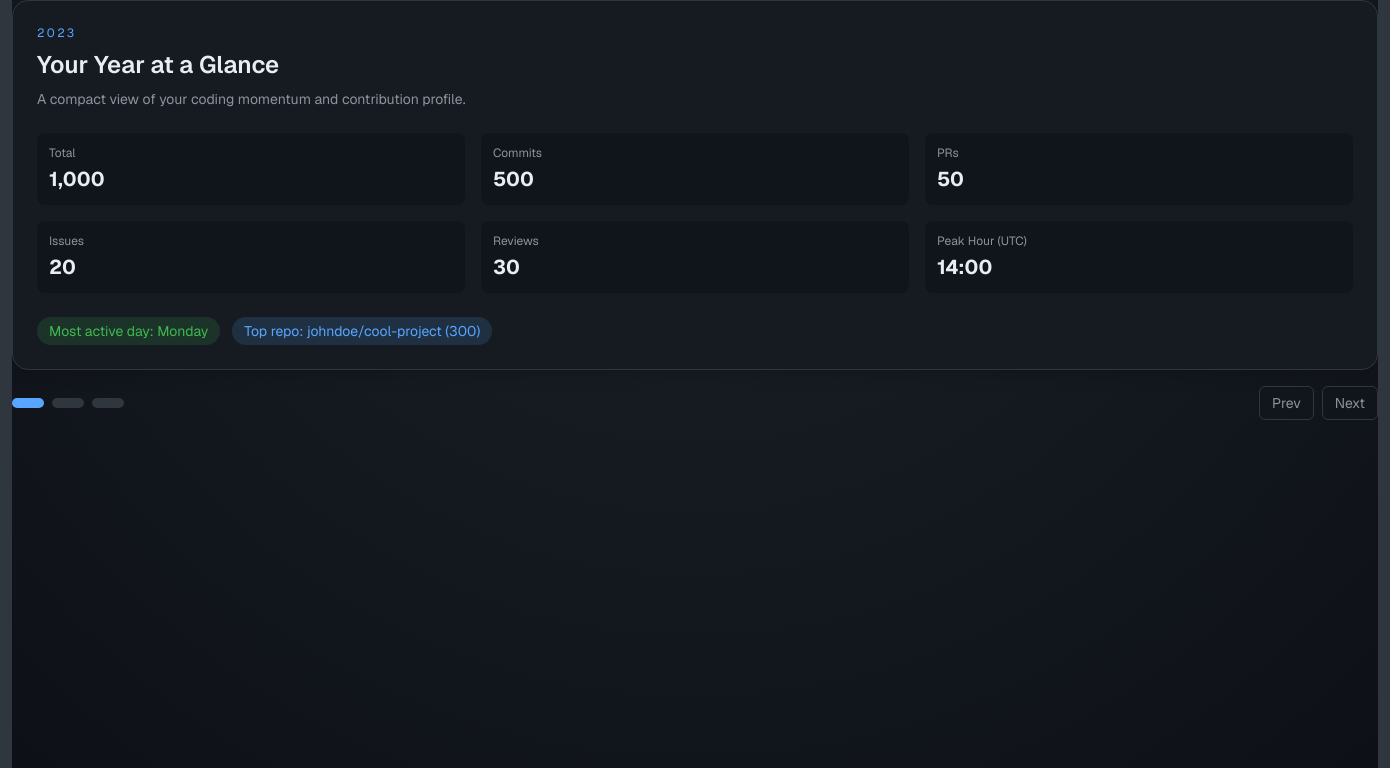
Test: YearInReviewCarousel › navigates to a specific slide when dot indicators are clicked
Click the button named "Go to slide 2".
click(68, 403)  # box [52,398,84,408]
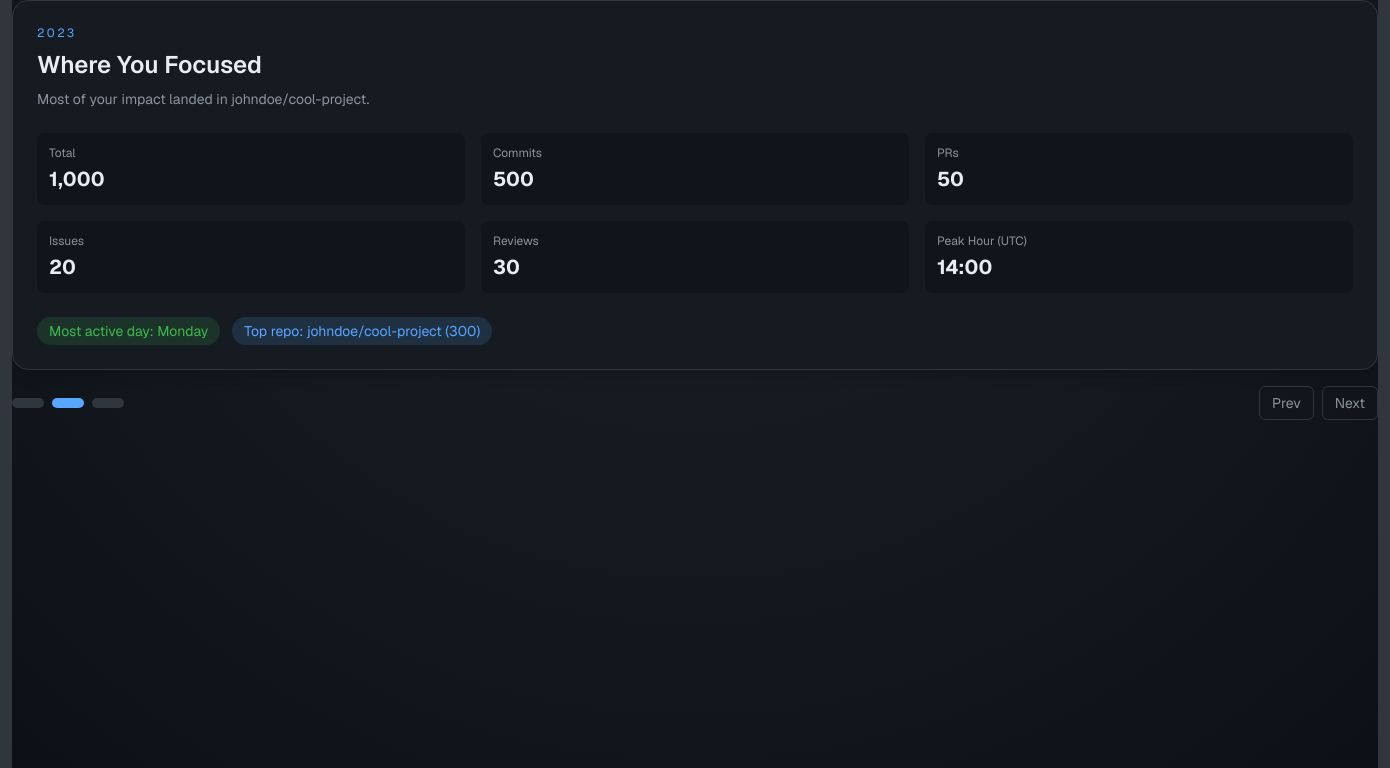
Expected: the heading "Where You Focused" is shown, [37,49,262,80]
